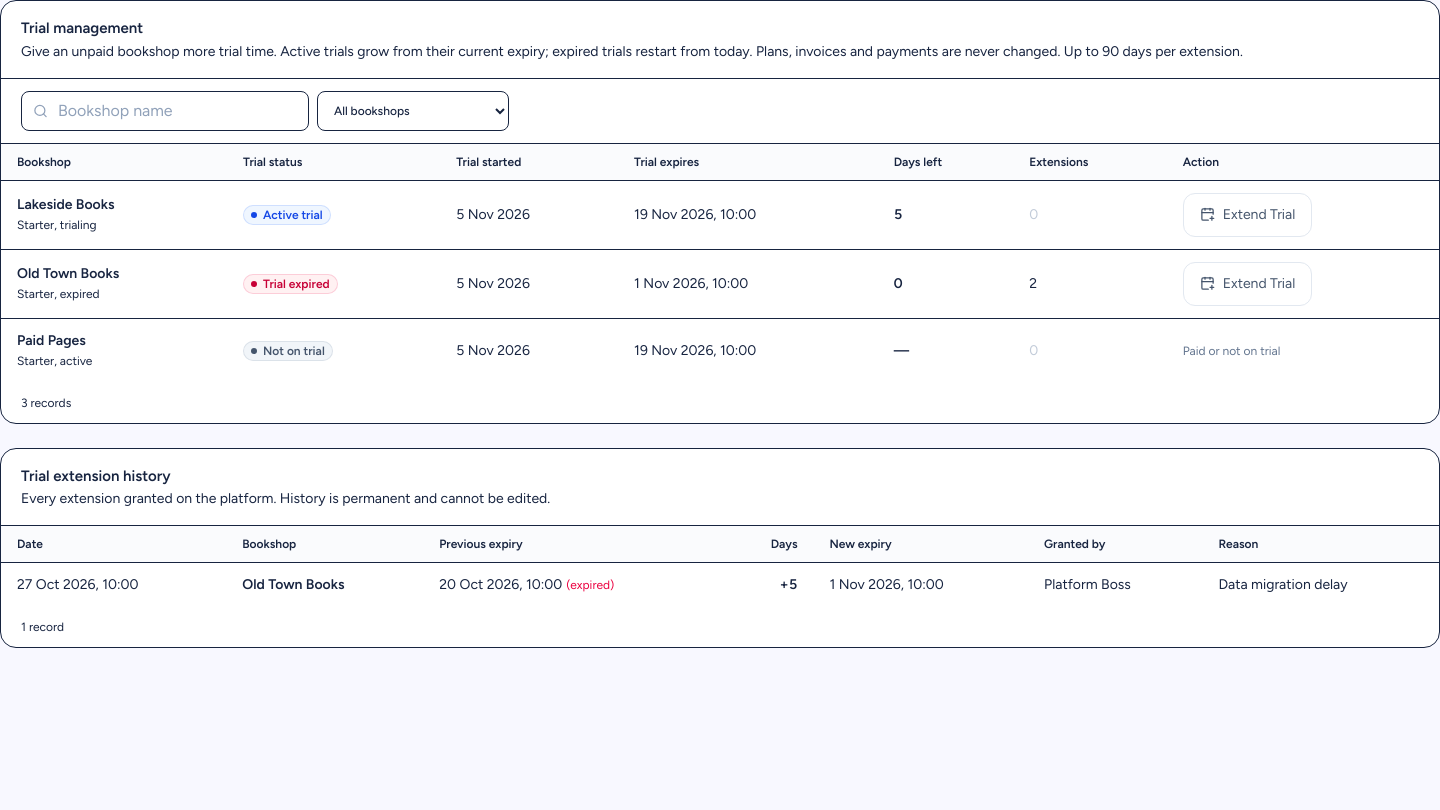
it: Trial extension panel › explains that an expired trial restarts from today and shows server errors
This screenshot has width=1440, height=810.
Click the button with aria-label "Extend trial for Old Town Books".
click(1248, 284)  # box 1183,262 -> 1312,306
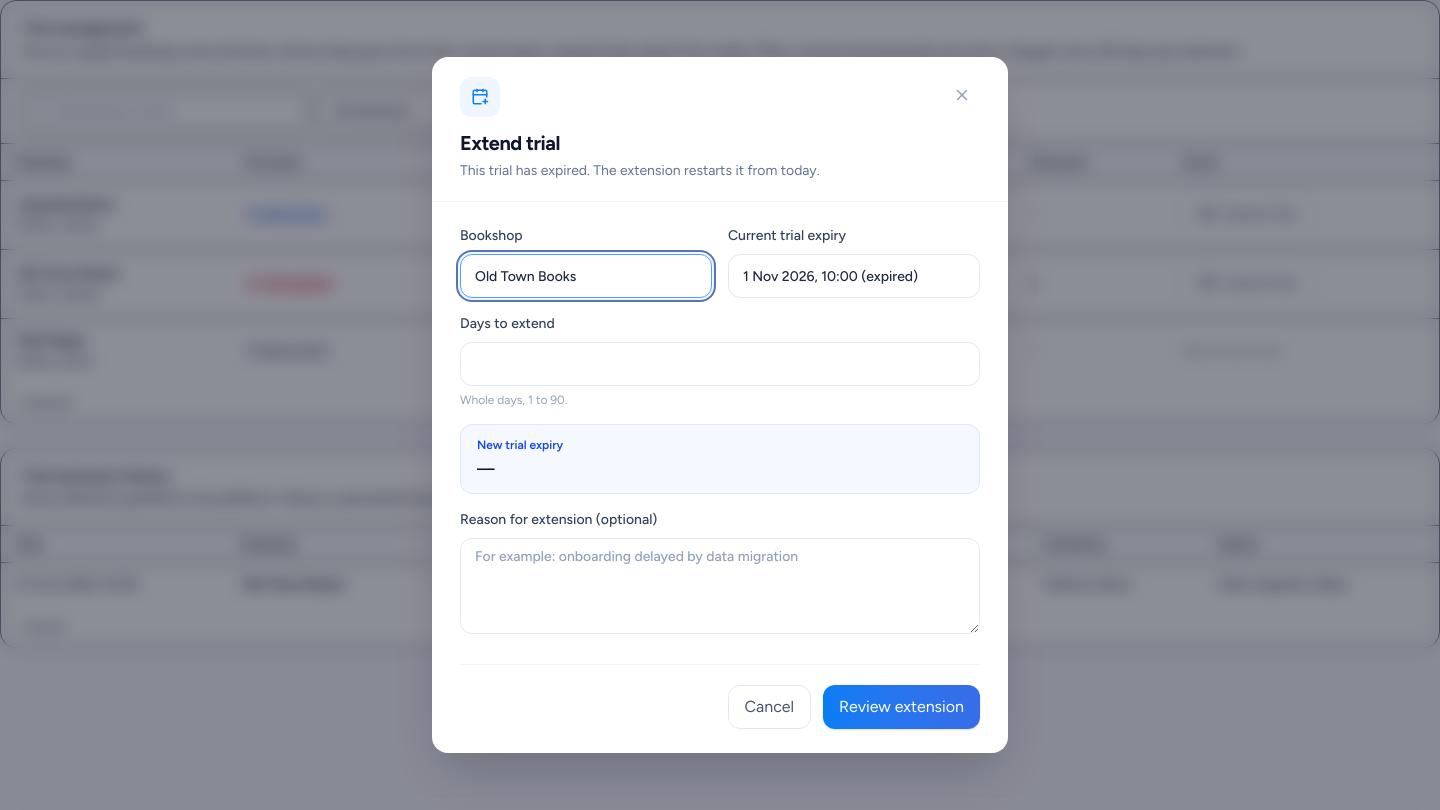
Now the text "restarts it from today" is shown, box 460,162 -> 820,179
Type "7" into the field labelled "Days to extend Whole days, 1 to 90.".
click(720, 364); type("7")  # box 460,342 -> 980,386
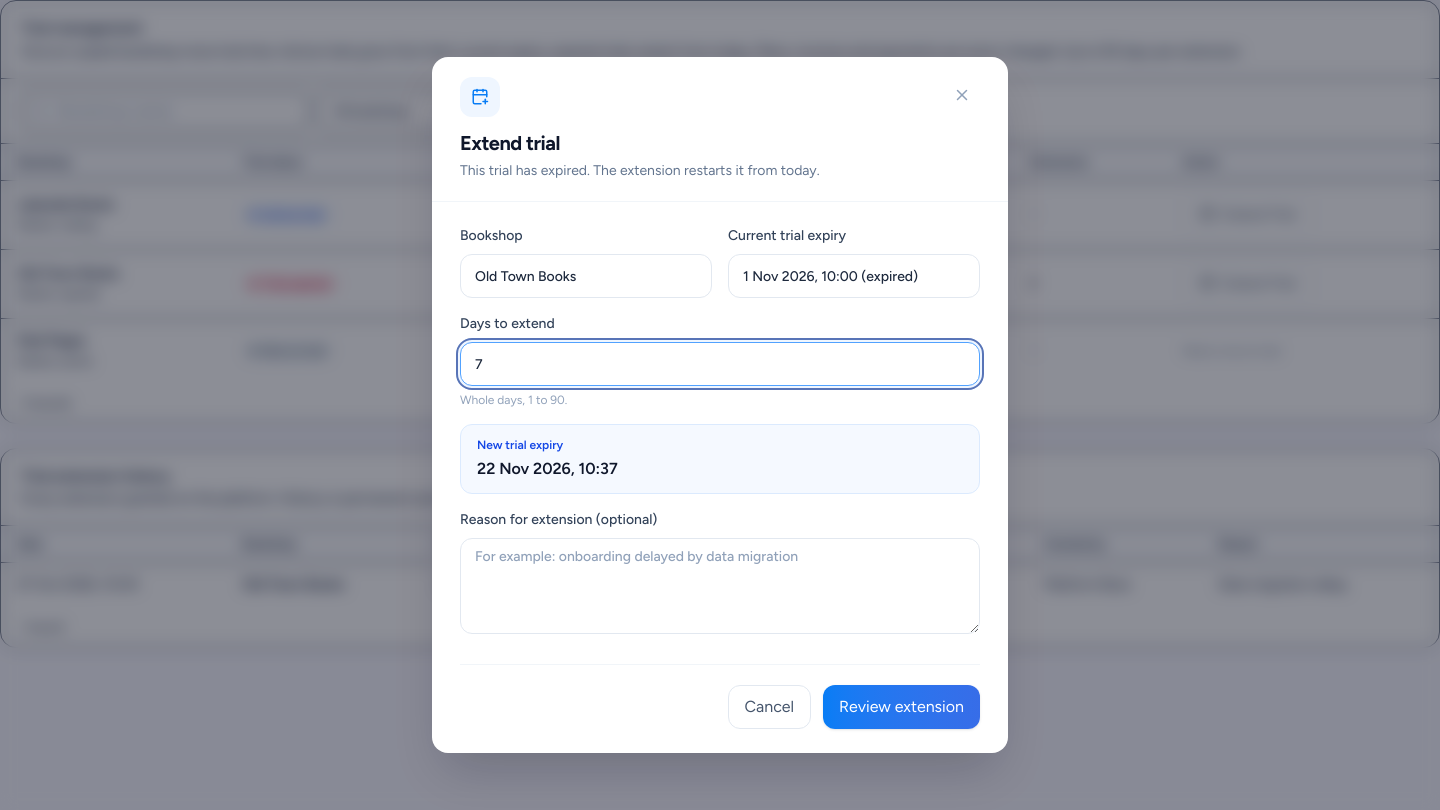
Click the button "Review extension".
click(902, 707)  # box 823,685 -> 980,729
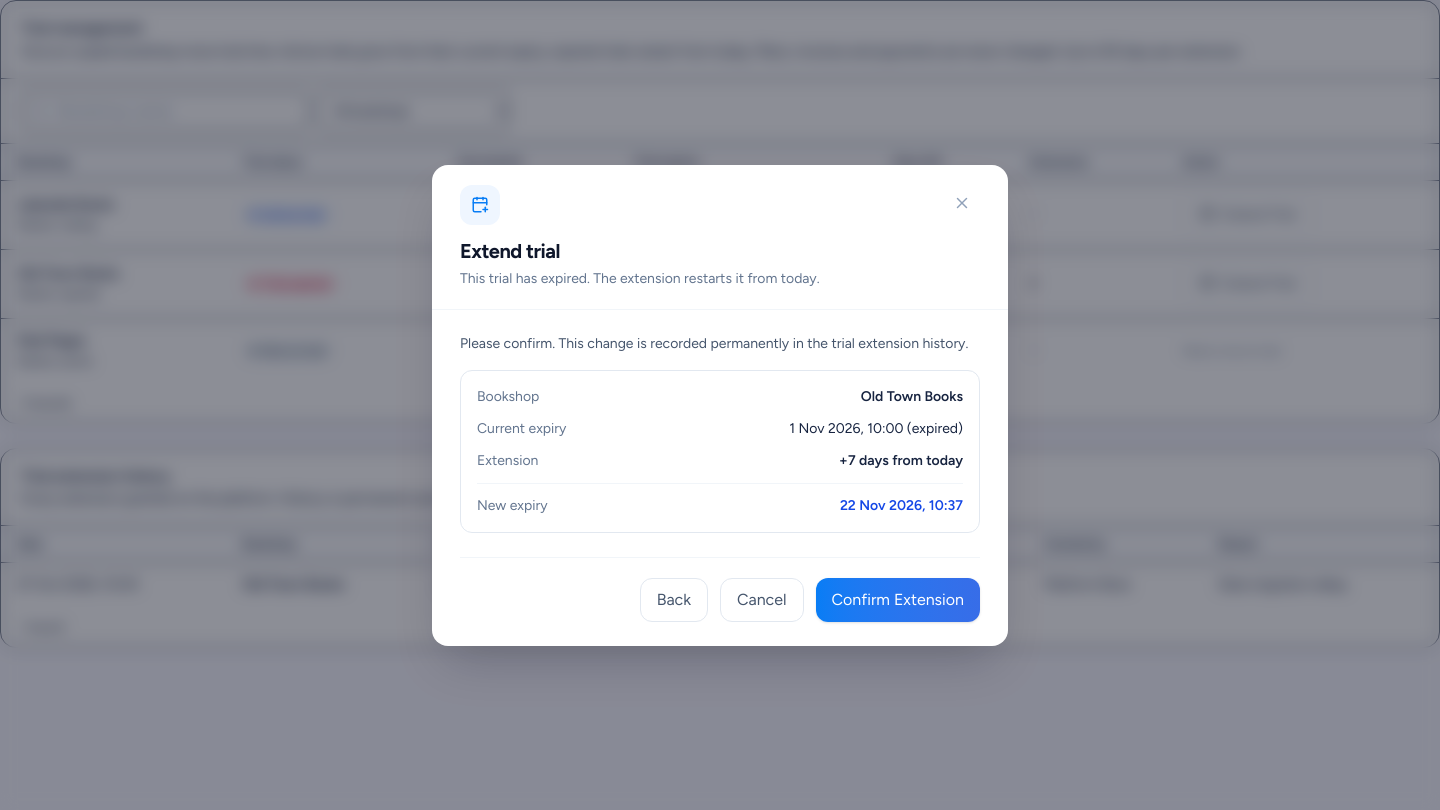
Now the text "+7 days from today" is shown, box 839,450 -> 963,470
Click the button "Confirm Extension".
click(898, 600)  # box 816,578 -> 980,622
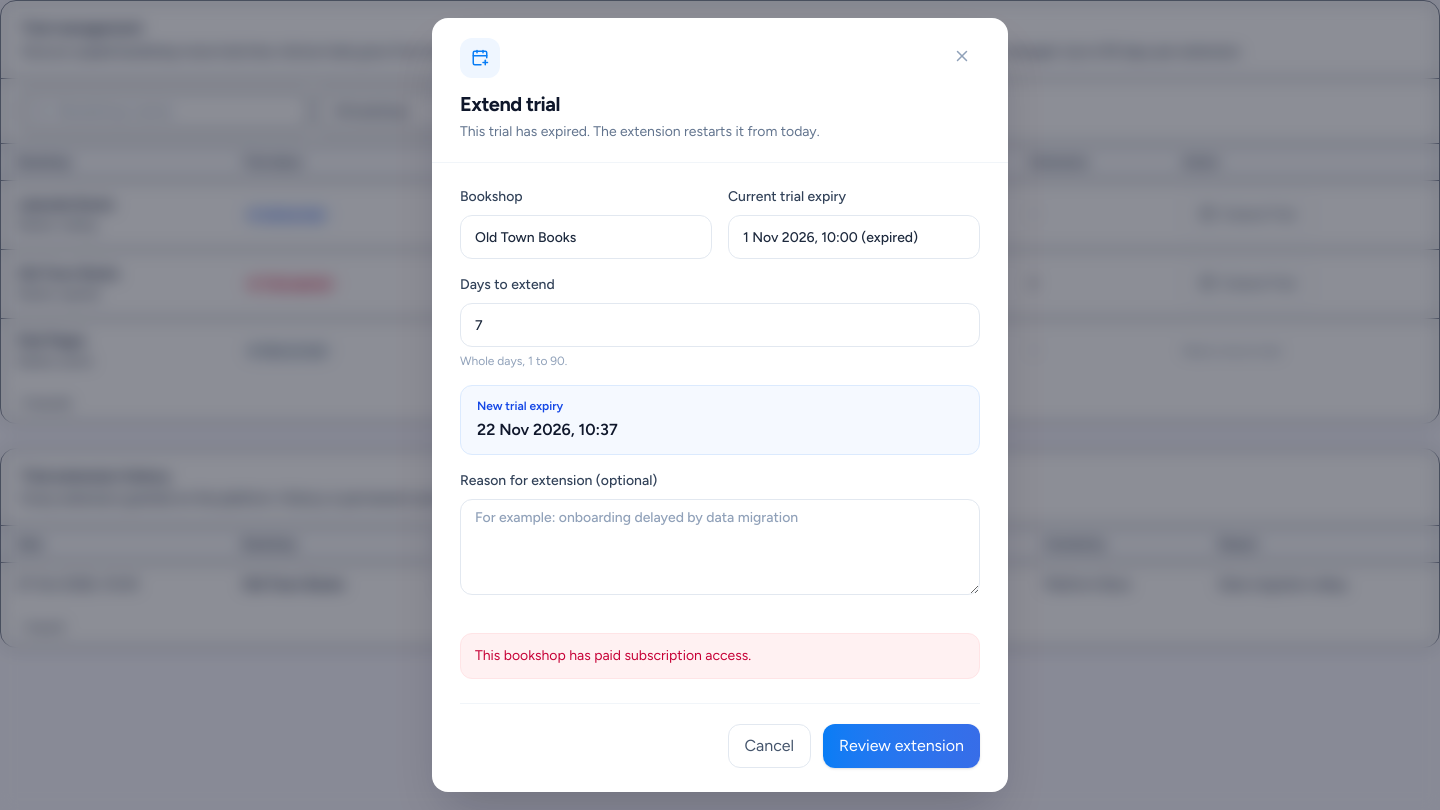
Now the text "This bookshop has paid subscription access." is shown, box 460,633 -> 980,679
